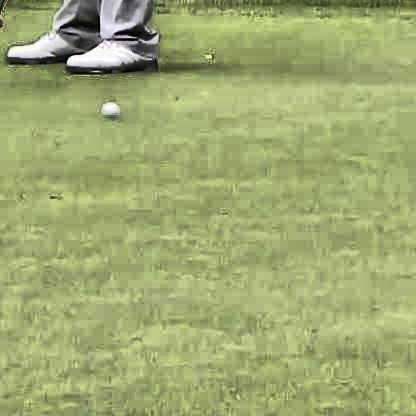golfball: (98, 98, 118, 118)
